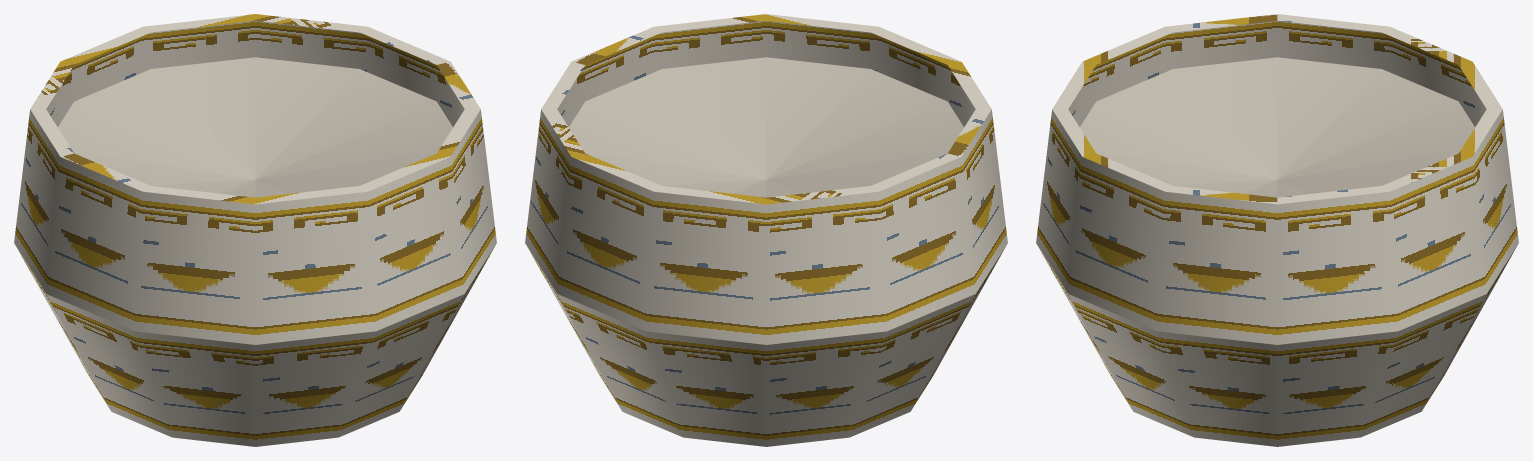
Rendered from BatHuong.glb.
3 views of the same model, side by side, from view 1: azimuth 30°, elevation 25°; view 2: azimuth 150°, elevation 25°; view 3: azimuth 270°, elevation 25° (orthographic).
Parts seen in each view (by area): view 1: BatHuong_Than, BatHuong_MatTro; view 2: BatHuong_Than, BatHuong_MatTro; view 3: BatHuong_Than, BatHuong_MatTro.
Part boxes in pixels (bbox=[...]): BatHuong_Than: bbox=[14, 14, 496, 446]; BatHuong_MatTro: bbox=[58, 57, 452, 197]; BatHuong_Than: bbox=[525, 14, 1007, 446]; BatHuong_MatTro: bbox=[569, 57, 963, 197]; BatHuong_Than: bbox=[1036, 14, 1518, 446]; BatHuong_MatTro: bbox=[1080, 57, 1474, 197].
Bounding box in the file's own units: 0.18 × 0.11 × 0.18.
2 materials, 1 textured.
